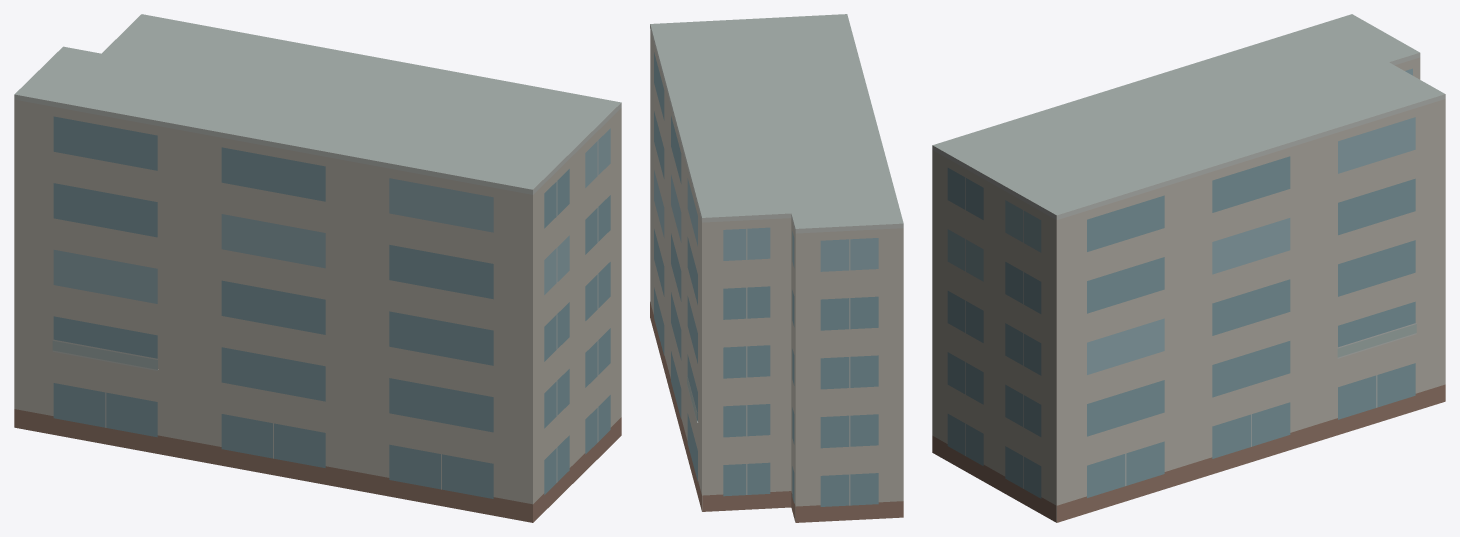
Rendered from survey-upis-32714324.glb.
3 renders of one model, left to right at view 1: azimuth 30°, elevation 25°; view 2: azimuth 150°, elevation 25°; view 3: azimuth 270°, elevation 25°, orthographic. The views are drawn at different scales.
Parts seen in each view (by area): view 1: survey-upis-32714324.tmp; view 2: survey-upis-32714324.tmp; view 3: survey-upis-32714324.tmp.
Boxes of the visible parts, box(x1,y1,x2,y2) form: survey-upis-32714324.tmp: box(14, 14, 621, 522); survey-upis-32714324.tmp: box(650, 14, 903, 522); survey-upis-32714324.tmp: box(932, 14, 1445, 522).
Bounding box in the file's own units: 22.07 × 15.7 × 23.76.
